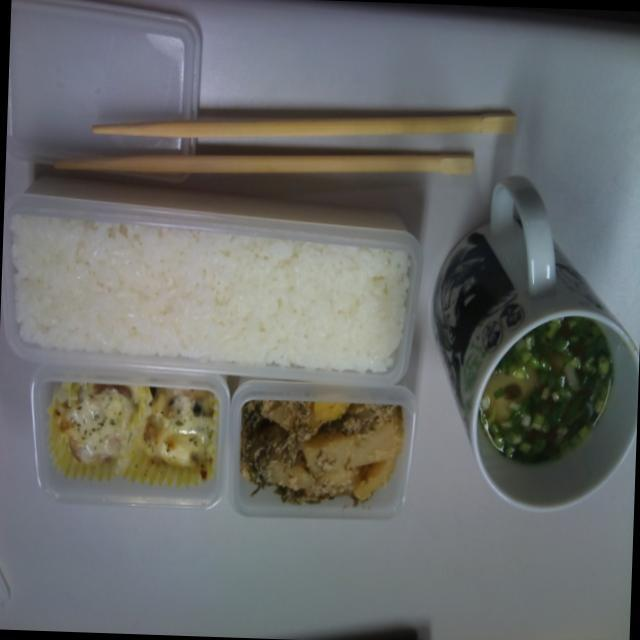Rice: (0, 198, 412, 370)
